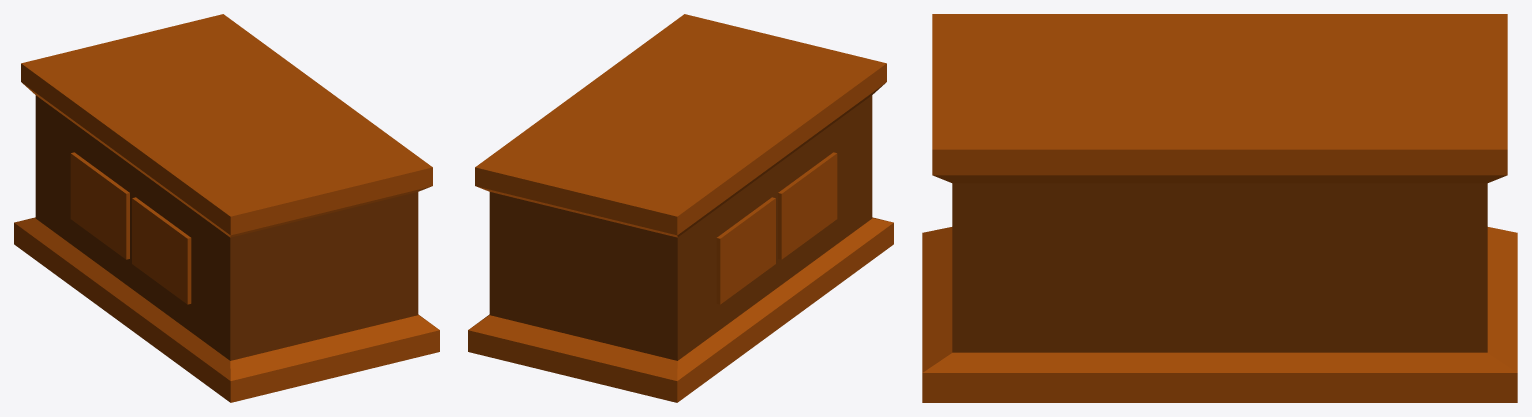
File: cabnet.fbx
3 renders of one model, left to right at view 1: azimuth 30°, elevation 25°; view 2: azimuth 150°, elevation 25°; view 3: azimuth 270°, elevation 25°, orthographic. The views are drawn at different scales.
Parts seen in each view (by area): view 1: Cube; view 2: Cube; view 3: Cube.
Part boxes in pixels (left/top/right/bottom): Cube: left=14, top=14, right=439, bottom=402; Cube: left=468, top=14, right=893, bottom=402; Cube: left=922, top=14, right=1517, bottom=402.
Bounding box in the file's own units: 32.54 × 58.38 × 27.16.
